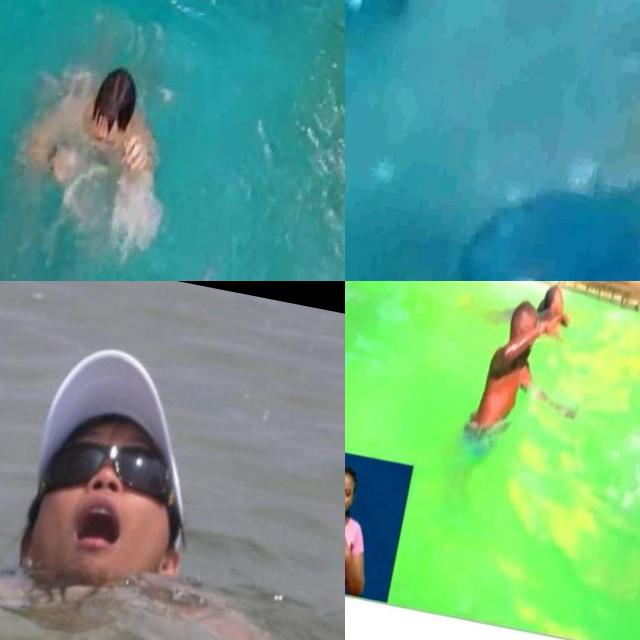drowning: (0, 281, 345, 640), (8, 45, 180, 245)
swimming: (462, 294, 548, 454), (531, 281, 577, 345)
